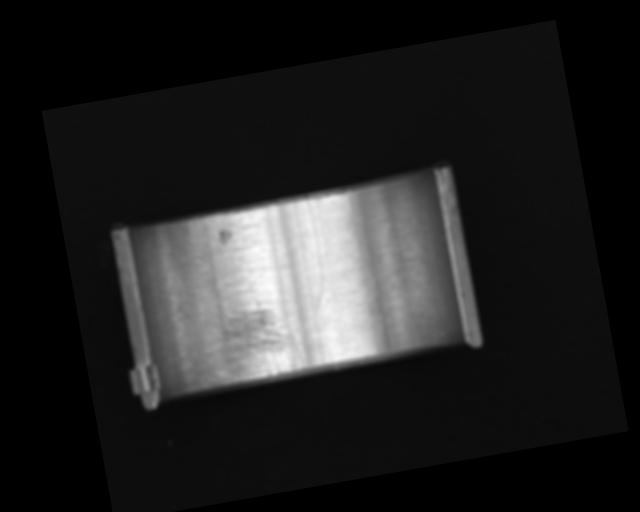bruise: (217, 227, 234, 246)
nick: (295, 195, 330, 311)
scratch: (194, 290, 310, 389)
